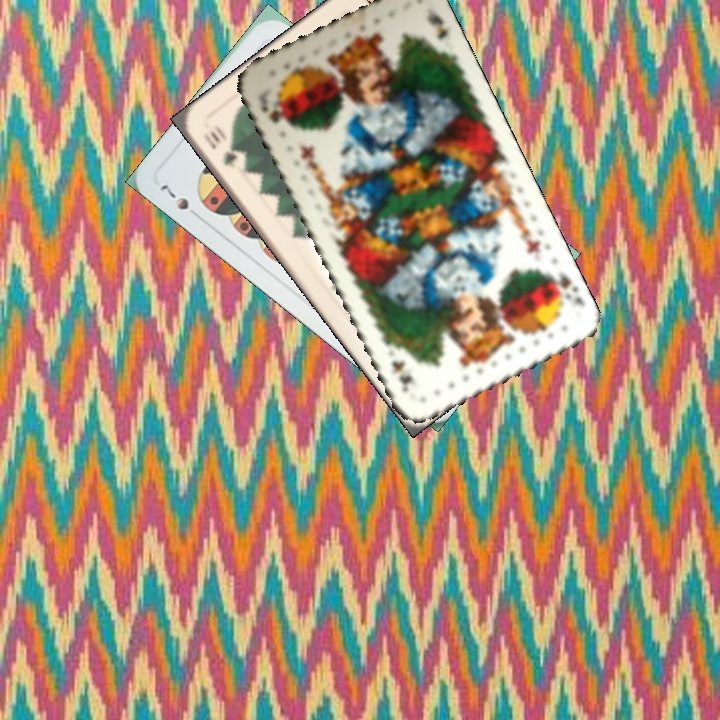G10: (198, 126, 240, 171)
S7: (156, 180, 204, 222)
SK: (542, 268, 586, 309), (253, 95, 293, 131)
